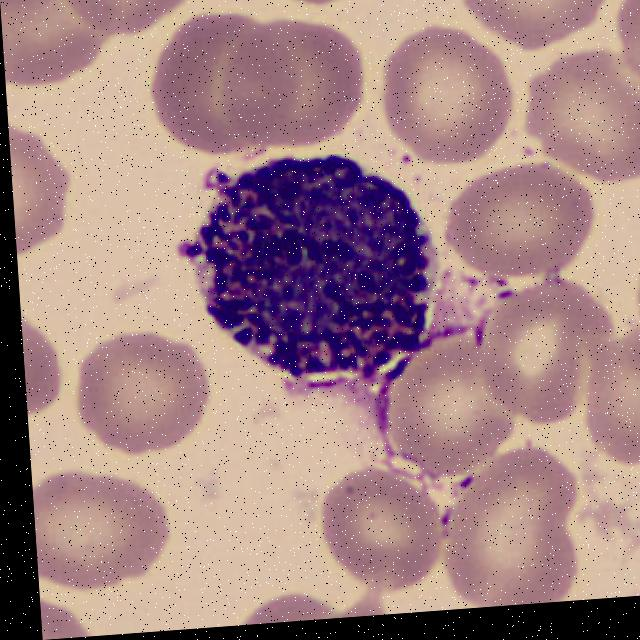basophil: (176, 138, 447, 390)
rbc: (131, 5, 305, 165), (467, 280, 629, 437), (446, 445, 591, 609), (364, 334, 519, 474), (435, 163, 610, 285), (214, 15, 374, 146), (68, 329, 213, 460), (315, 460, 455, 593), (389, 30, 518, 171), (32, 470, 173, 588), (530, 62, 640, 179), (0, 0, 112, 94), (7, 107, 74, 264), (577, 334, 640, 489), (74, 0, 216, 52), (19, 283, 64, 426), (472, 0, 611, 44), (621, 0, 640, 74)
